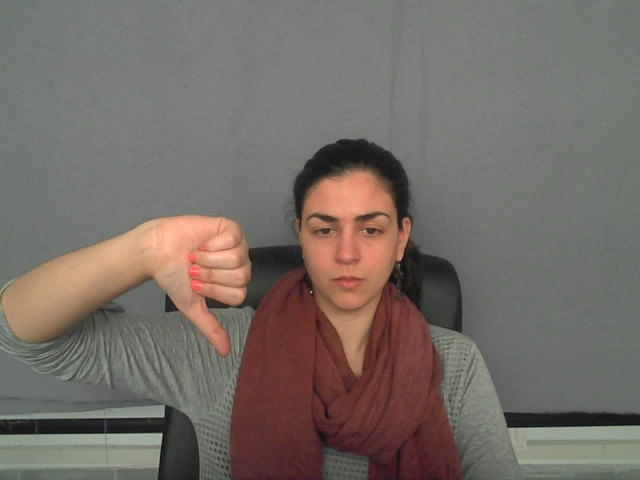down: (121, 209, 280, 365)
